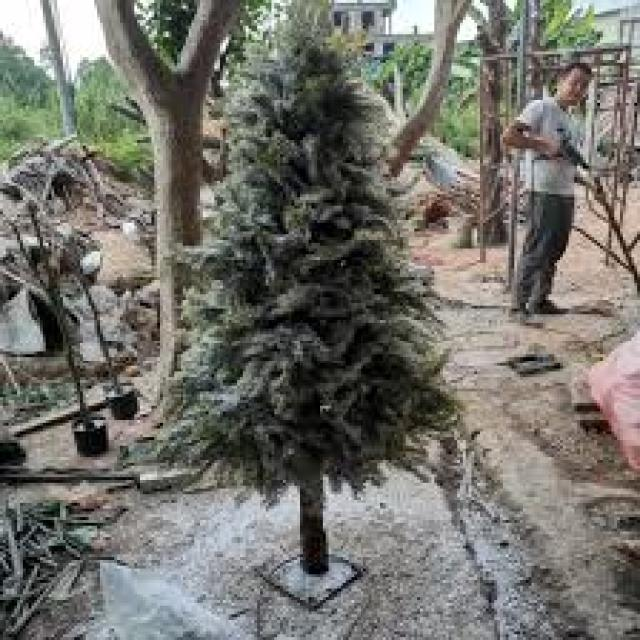sanaoubar: (210, 26, 407, 594)
